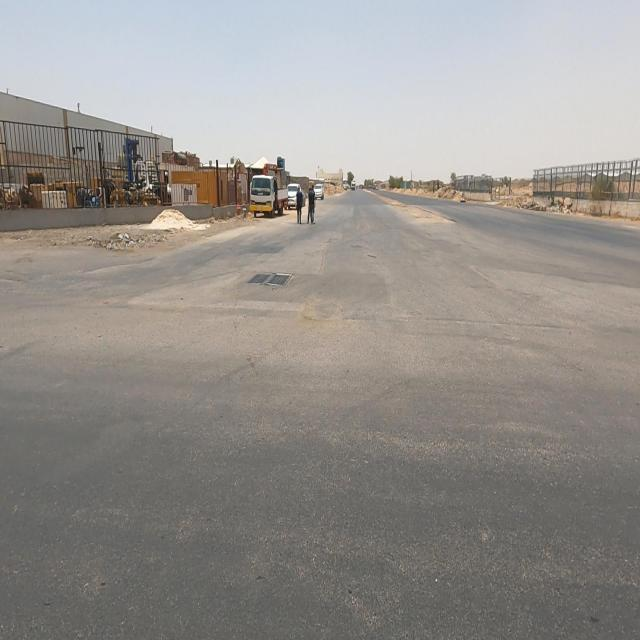debris: (80, 200, 160, 284)
